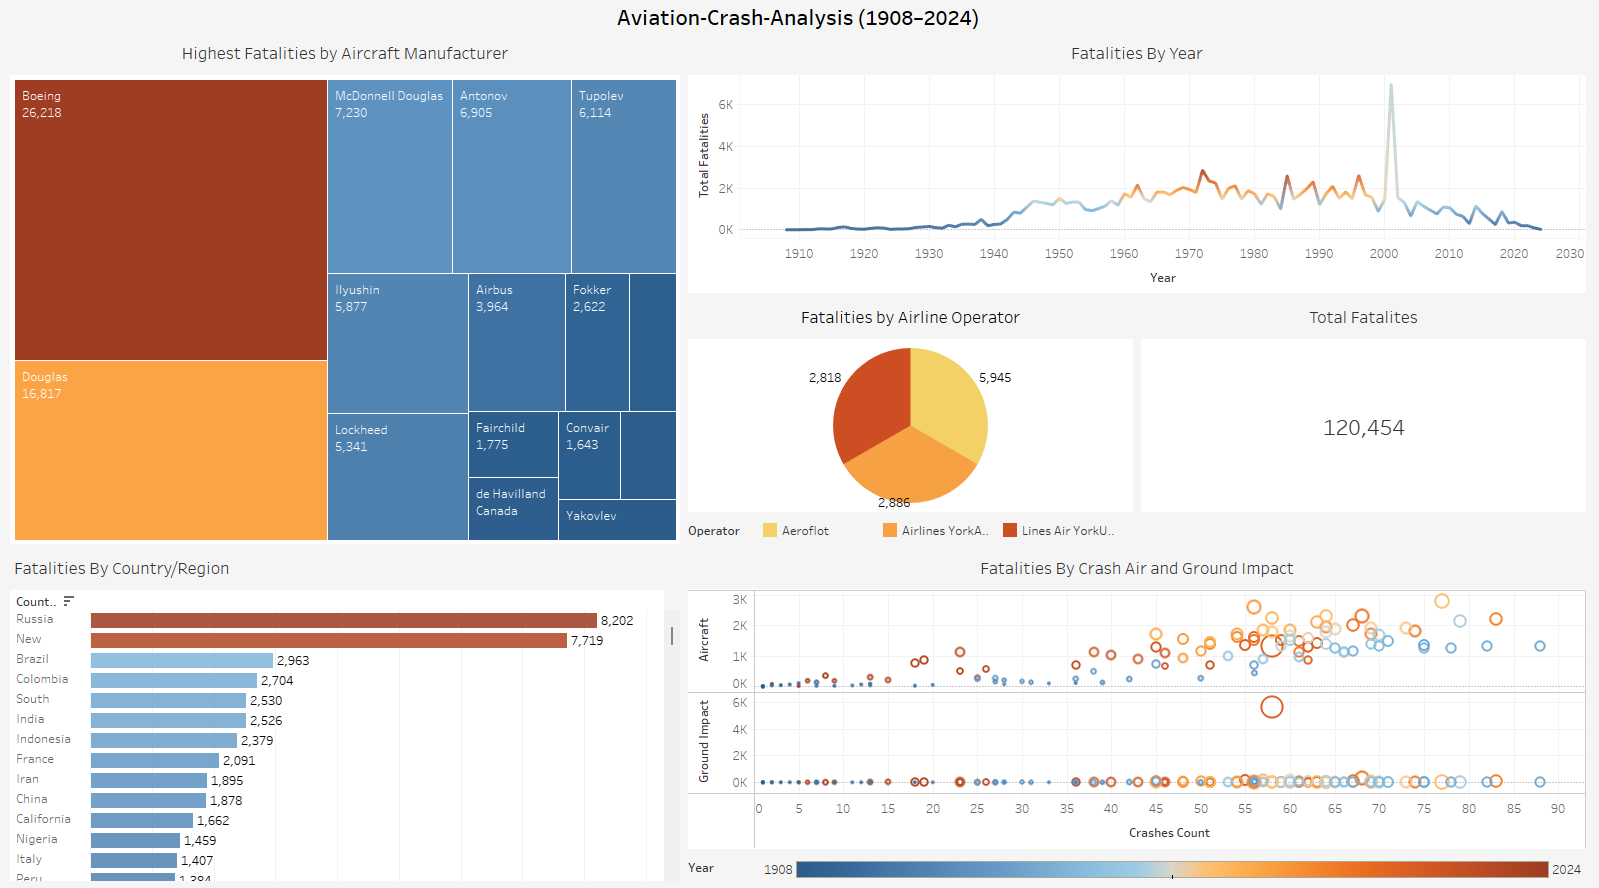

Layout of this report page (visuals, bound fields, positions):
{"tool":"tableau","page":{"name":"Aviation Crash Analysis","canvas":[1600,900],"ordinal":0},"visuals":[{"type":"text","box":[8,8,1584,36.1]},{"type":"worksheet","title":"Highest Fatalities by Aircraft Manufacturer","mark":"Automatic","box":[8,44.1,677.7,424]},{"type":"worksheet","title":"Fatalities by Year","mark":"Automatic","rows":["Calculation_1999316819646078976"],"cols":["Year"],"box":[685.7,44.1,906.3,424]},{"type":"worksheet","title":"Fatalites by Country/Region","mark":"Automatic","rows":["Country/Region"],"cols":["Calculation_1999316819646078976"],"box":[8,468,573.1,424]},{"type":"worksheet","title":"Fatalities By Crash Air and Ground Impact","mark":"Automatic","rows":["Fatalities (air)","Ground"],"cols":["Calculation_1127307340577259520"],"box":[581.1,468,709.9,389.3]},{"type":"worksheet","title":"Operator Fatalites","mark":"Pie","box":[1291,468,301,230]},{"type":"legend","title":"Operator Fatalites","param":"[federated.1v1p95r054g7ol16mo6s80ry32st].[none:Operator:nk]","box":[1291,698.1,301,106]},{"type":"worksheet","title":"Total Fatalites","mark":"Automatic","box":[1291,804,301,88]},{"type":"legend","title":"Fatalities By Crash Air and Ground Impact","param":"[federated.1v1p95r054g7ol16mo6s80ry32st].[none:Year:qk]","box":[581.1,857.4,709.9,34.6]}]}

Visuals, with their boxes in screenshot pixels (x1, y1, x2, y2), scaled from the page's 1600x900 canvas onto the 1599x888 screenshot:
text: Rect(8, 8, 1591, 44)
"Highest Fatalities by Aircraft Manufacturer" worksheet: Rect(8, 44, 685, 462)
"Fatalities by Year" worksheet: Rect(685, 44, 1591, 462)
"Fatalites by Country/Region" worksheet: Rect(8, 462, 581, 880)
"Fatalities By Crash Air and Ground Impact" worksheet: Rect(581, 462, 1290, 846)
"Operator Fatalites" worksheet (Pie marks): Rect(1290, 462, 1591, 689)
"Operator Fatalites" legend: Rect(1290, 689, 1591, 793)
"Total Fatalites" worksheet: Rect(1290, 793, 1591, 880)
"Fatalities By Crash Air and Ground Impact" legend: Rect(581, 846, 1290, 880)
